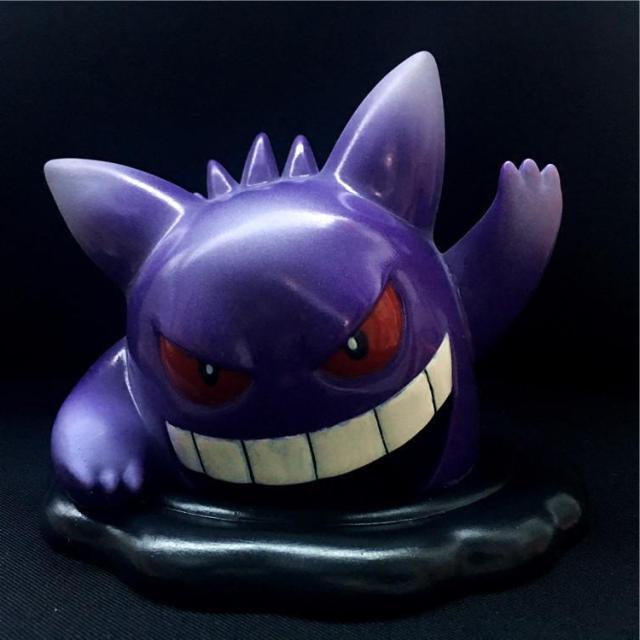Gengar: (42, 59, 470, 516)
